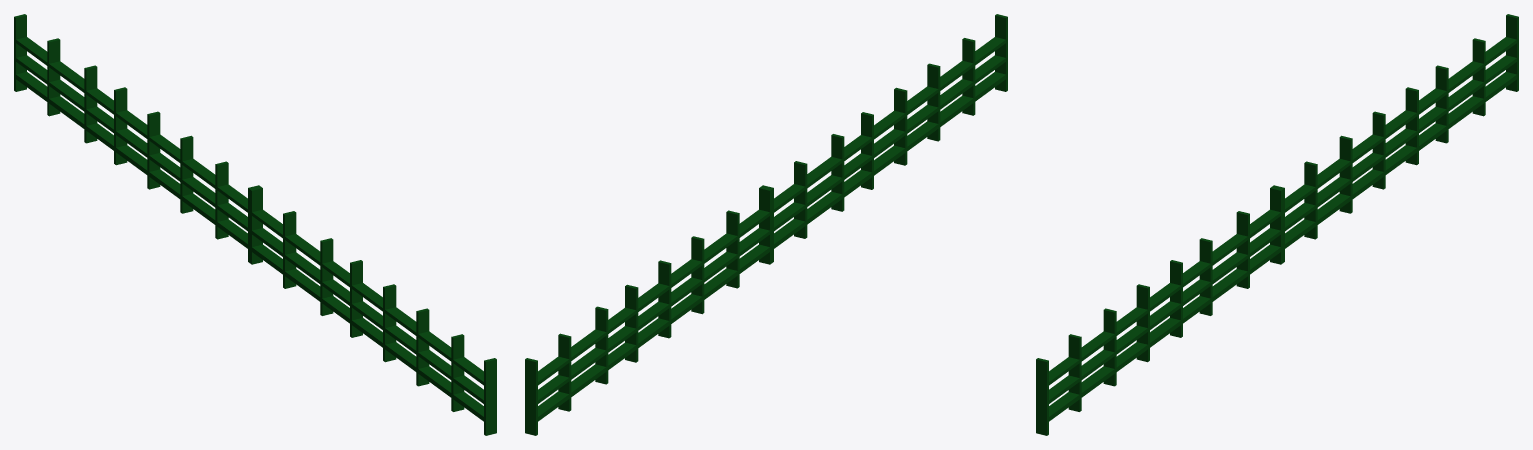
The model's file is plane.016_lev3.glb.
3 views of the same model, side by side, from view 1: azimuth 30°, elevation 25°; view 2: azimuth 150°, elevation 25°; view 3: azimuth 330°, elevation 25° (orthographic).
Visible parts, largest first — view 1: plane.016_lev3; view 2: plane.016_lev3; view 3: plane.016_lev3.
Boxes of the visible parts, x1=… form: plane.016_lev3: x1=14, y1=14, x2=496, y2=435; plane.016_lev3: x1=525, y1=14, x2=1007, y2=435; plane.016_lev3: x1=1036, y1=14, x2=1518, y2=435.
Size of the model in its own units: 0.0612 by 0.3895 by 4.51.
